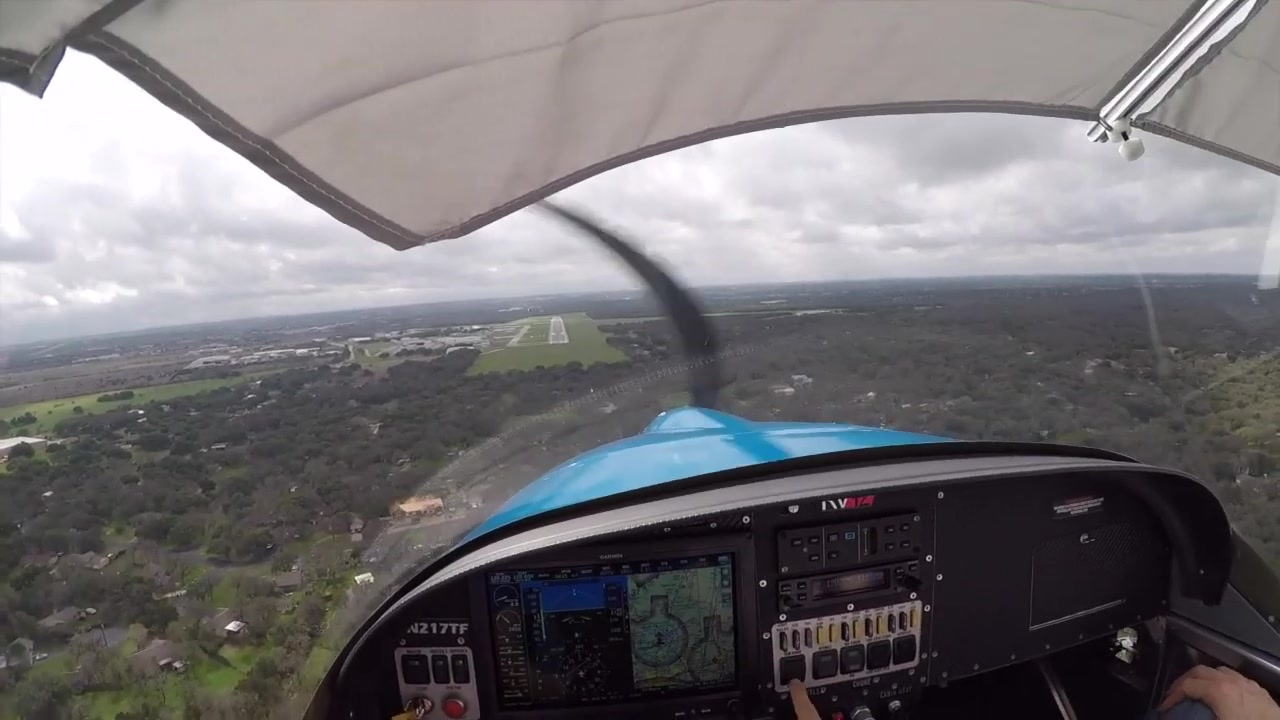runway: (546, 316, 570, 346)
